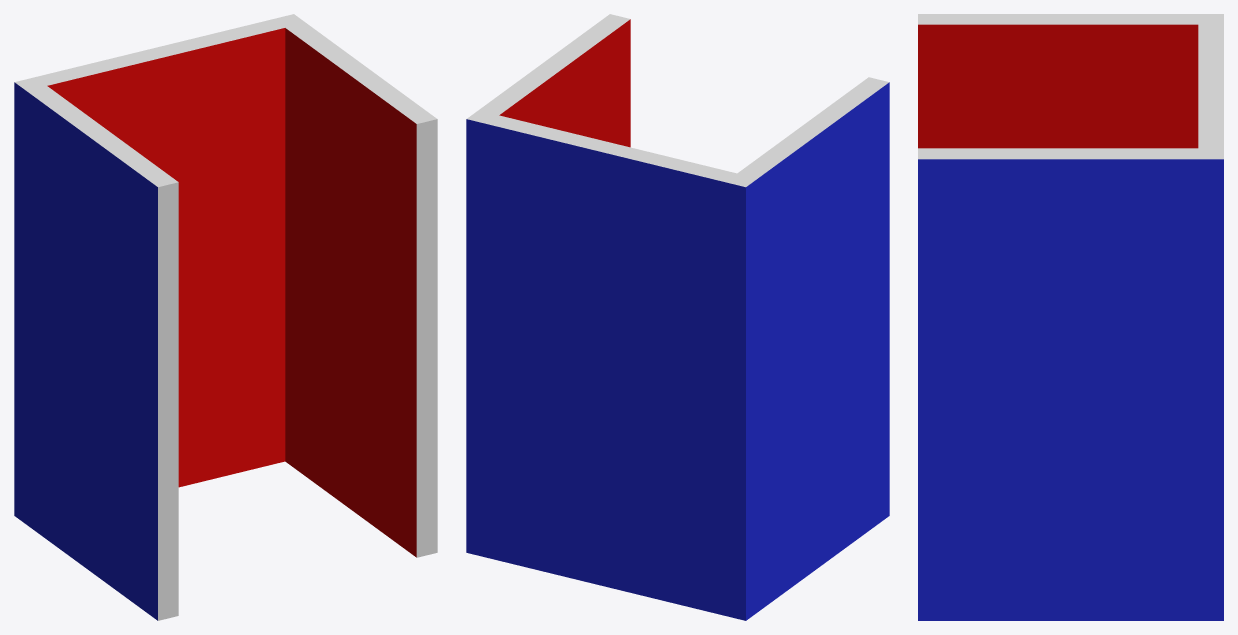
Rendered from Mesh_wall_deadend.fbx.
3 renders of one model, left to right at view 1: azimuth 30°, elevation 25°; view 2: azimuth 150°, elevation 25°; view 3: azimuth 270°, elevation 25°, orthographic. The views are drawn at different scales.
Visible parts, largest first — view 1: mesh_wall_deadend; view 2: mesh_wall_deadend; view 3: mesh_wall_deadend.
Part boxes in pixels (x1,y1,x2,y2): mesh_wall_deadend: (14,14,437,620); mesh_wall_deadend: (466,14,889,620); mesh_wall_deadend: (918,14,1223,620).
Bounding box in the file's own units: 2.19 × 3.25 × 1.95.
